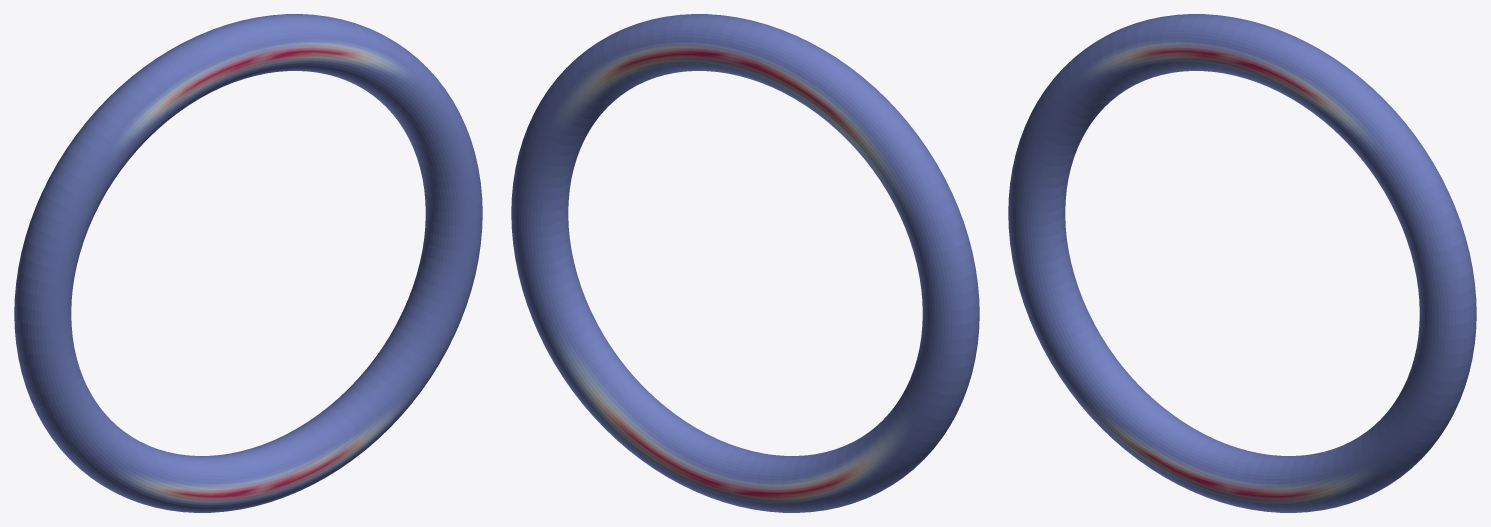
3 renders of one model, left to right at view 1: azimuth 30°, elevation 25°; view 2: azimuth 150°, elevation 25°; view 3: azimuth 330°, elevation 25°, orthographic.
Visible parts, largest first — view 1: world; view 2: world; view 3: world.
Part boxes in pixels (x1,y1,x2,y2): world: (14,14,482,512); world: (511,14,979,512); world: (1008,14,1476,512).
Bounding box in the file's own units: 18.67 × 18.67 × 2.
